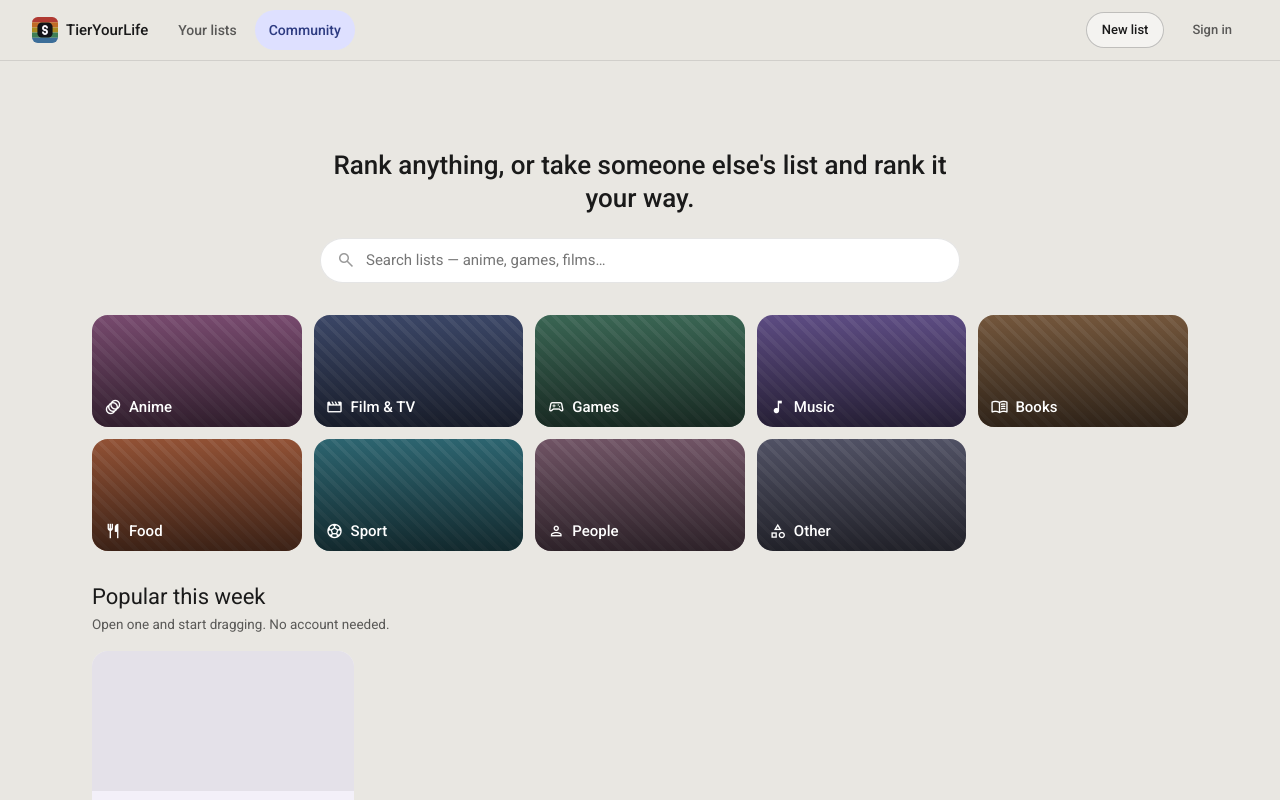
the search box on the front page › leads to the results for what was typed
The width and height of the screenshot is (1280, 800).
In the search field: {"x": 654, "y": 260} [364,248,944,272], type "ghibli"
Then press Enter
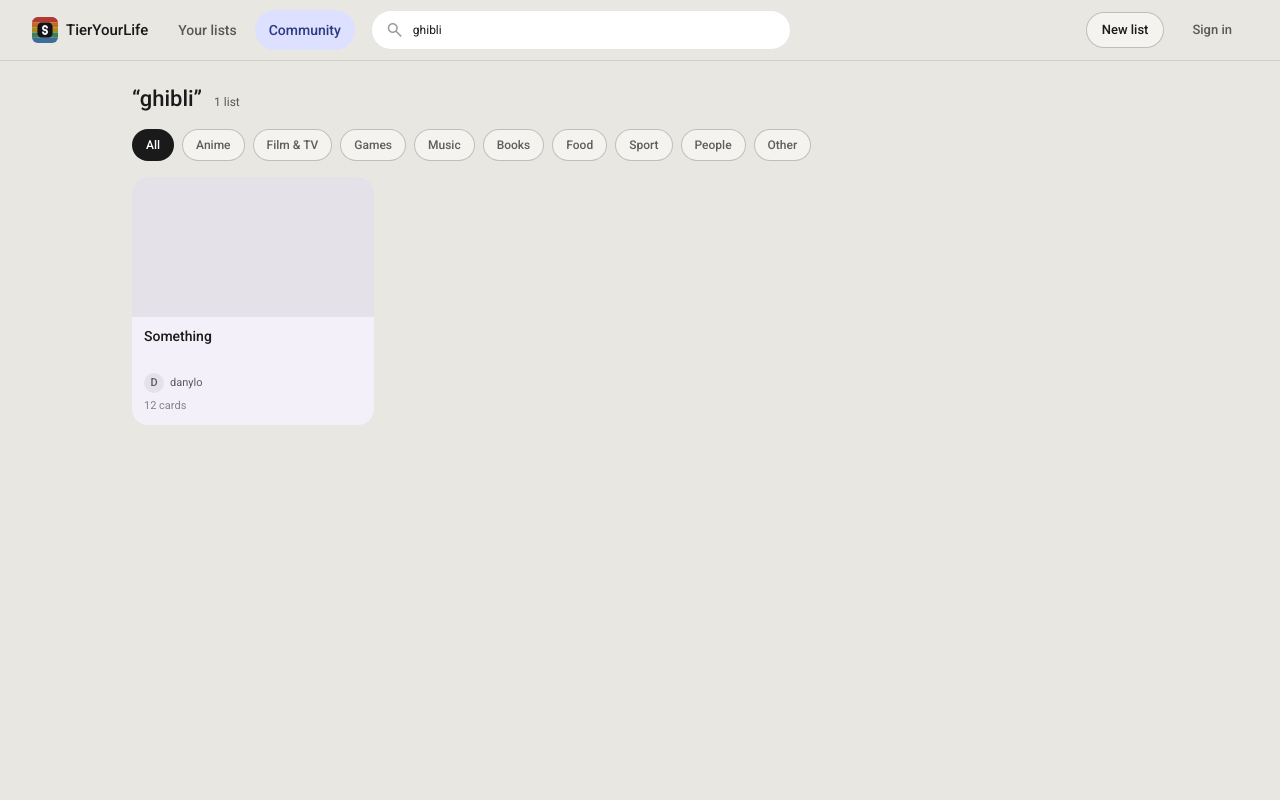
Expected: the heading reads "“ghibli”", [132,86,202,111]
